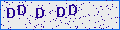D: (56, 7, 65, 17), (69, 5, 77, 15), (36, 8, 44, 18), (18, 5, 26, 15), (7, 8, 15, 18)
